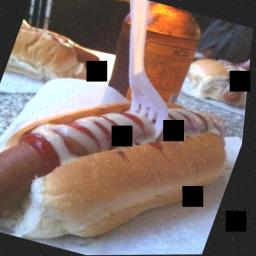hotdog: (0, 135, 53, 206), (0, 141, 34, 232), (204, 57, 252, 106), (64, 40, 106, 72)
